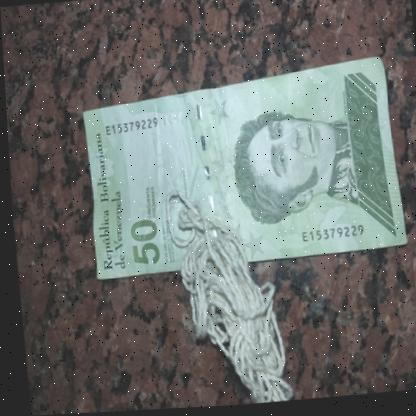fifty-front-vef: (77, 58, 406, 280)
